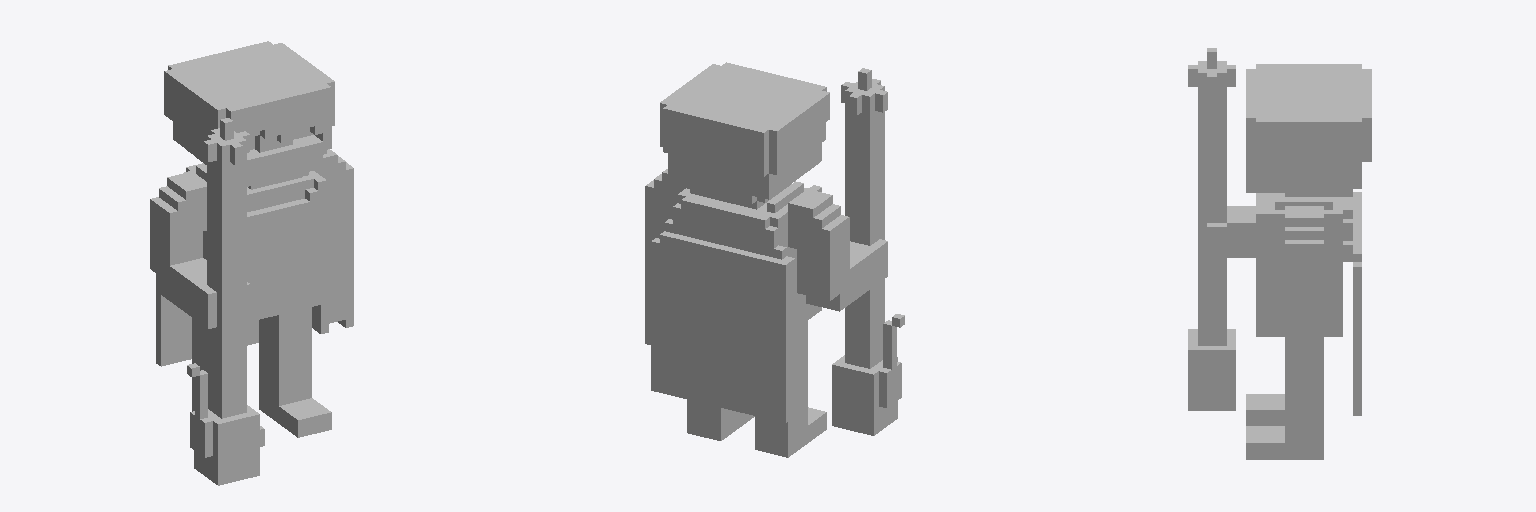
File: ArtourPen.obj
3 views of the same model, side by side, from view 1: azimuth 30°, elevation 25°; view 2: azimuth 150°, elevation 25°; view 3: azimuth 270°, elevation 25° (orthographic).
Visible parts, largest first — view 1: object 1; view 2: object 1; view 3: object 1.
Part boxes in pixels (x1,y1,x2,y2): object 1: (150, 41, 353, 485); object 1: (645, 62, 904, 457); object 1: (1188, 48, 1371, 459).
Size of the model in its own units: 2.4 by 4 by 1.9.